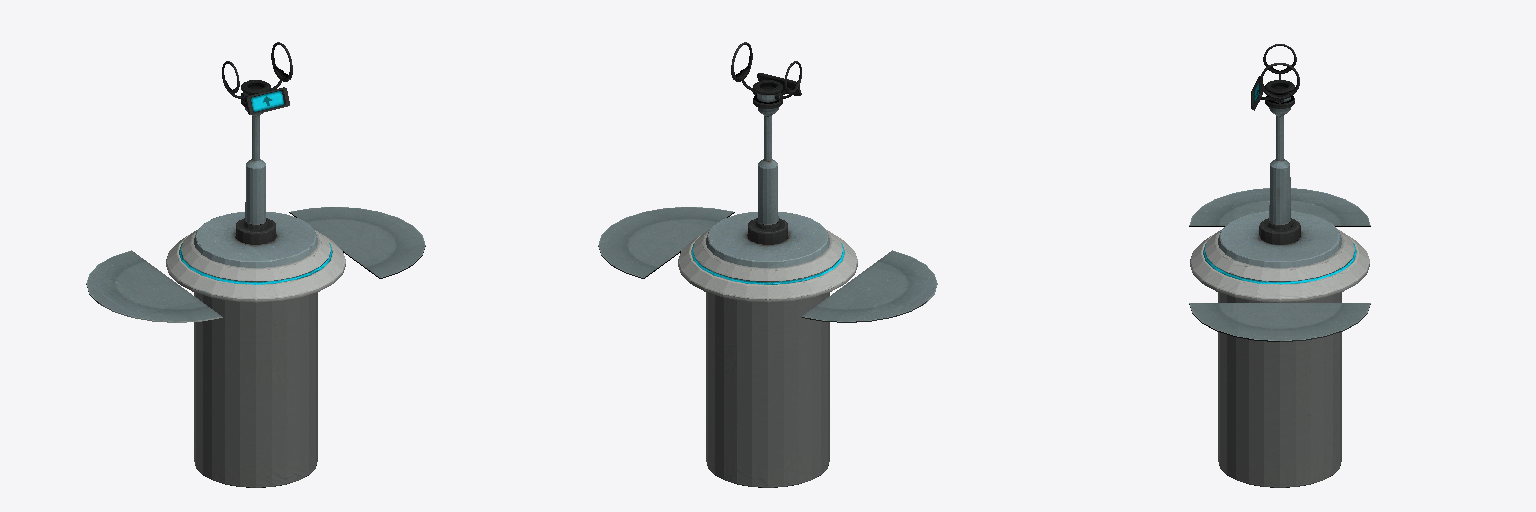
The picture shows the model from 3 angles: view 1: azimuth 30°, elevation 25°; view 2: azimuth 150°, elevation 25°; view 3: azimuth 270°, elevation 25°; orthographic projection.
Parts seen in each view (by area): view 1: g0; view 2: g0; view 3: g0.
Part boxes in pixels (left/top/right/bottom): g0: left=86, top=42, right=425, bottom=487; g0: left=598, top=42, right=937, bottom=487; g0: left=1189, top=44, right=1370, bottom=487.
Size of the model in its own units: 79.93 by 99.91 by 39.93.
1 materials, 1 textured.